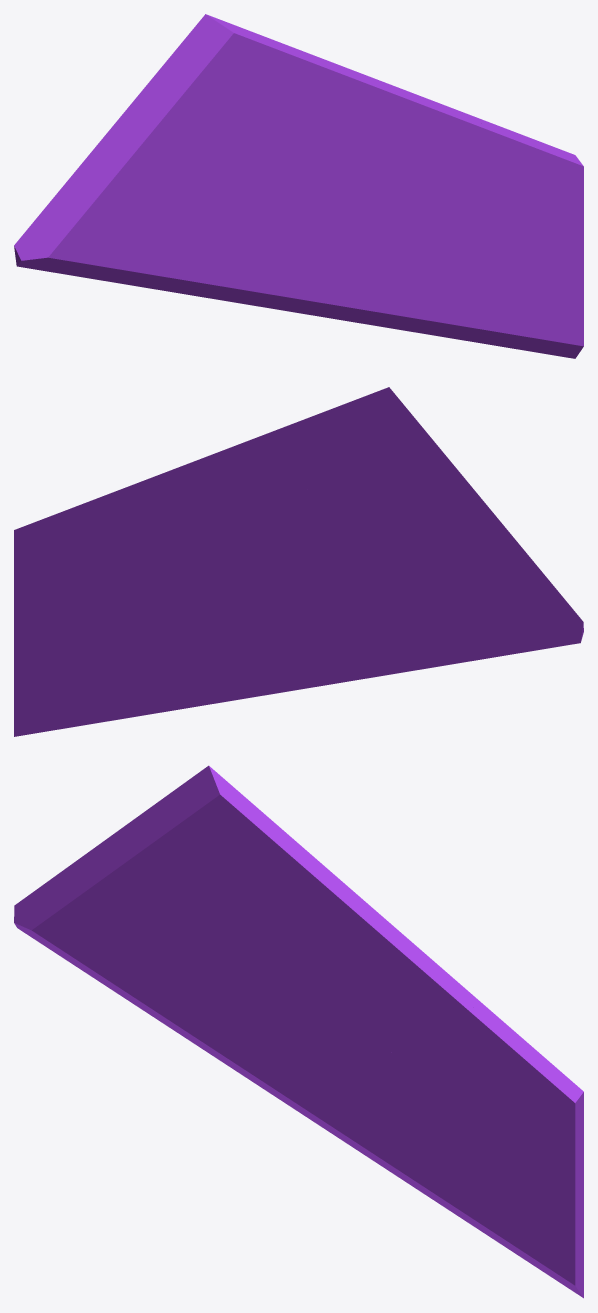
The model's file is Glass_85_17_chunks.fbx.
3 views of the same model, one above another, from view 1: azimuth 30°, elevation 25°; view 2: azimuth 150°, elevation 25°; view 3: azimuth 330°, elevation 25° (orthographic).
Visible parts, largest first — view 1: Glass_85_17_6, Glass_85_17_9, Glass_85_17_5, Glass_85_17_8, Glass_85_17_12, Glass_85_17_3, Glass_85_17_0, Glass_85_17_11, Glass_85_17_2, Glass_85_17_4, Glass_85_17_1, Glass_85_17_10 (+1 smaller); view 2: Glass_85_17_6, Glass_85_17_9, Glass_85_17_0, Glass_85_17_5, Glass_85_17_3, Glass_85_17_12, Glass_85_17_8, Glass_85_17_2, Glass_85_17_10, Glass_85_17_4, Glass_85_17_1, Glass_85_17_11; view 3: Glass_85_17_6, Glass_85_17_9, Glass_85_17_8, Glass_85_17_12, Glass_85_17_5, Glass_85_17_0, Glass_85_17_3, Glass_85_17_11, Glass_85_17_2, Glass_85_17_4, Glass_85_17_10, Glass_85_17_1 (+1 smaller).
Boxes of the visible parts, x1,y1,x2,y2 form: Glass_85_17_6: (373,175,583,358); Glass_85_17_9: (54,35,243,215); Glass_85_17_5: (285,162,413,325); Glass_85_17_8: (371,121,583,227); Glass_85_17_12: (188,14,365,144); Glass_85_17_3: (175,215,296,312); Glass_85_17_0: (315,67,495,186); Glass_85_17_11: (192,143,304,218); Glass_85_17_2: (14,197,133,281); Glass_85_17_4: (56,198,195,248); Glass_85_17_1: (103,244,193,293); Glass_85_17_10: (270,115,350,197); Glass_85_17_6: (14,540,219,736); Glass_85_17_9: (354,408,541,577); Glass_85_17_0: (94,440,318,593); Glass_85_17_5: (174,551,306,702); Glass_85_17_3: (297,576,433,689); Glass_85_17_12: (250,387,405,505); Glass_85_17_8: (14,500,207,596); Glass_85_17_2: (432,572,583,658); Glass_85_17_10: (266,474,363,579); Glass_85_17_4: (410,572,536,606); Glass_85_17_1: (412,627,487,670); Glass_85_17_11: (336,538,392,578); Glass_85_17_6: (377,1091,583,1298); Glass_85_17_9: (55,778,230,957); Glass_85_17_8: (359,993,583,1111); Glass_85_17_12: (190,765,353,935); Glass_85_17_5: (272,991,402,1163); Glass_85_17_0: (302,887,503,1021); Glass_85_17_3: (160,961,299,1112); Glass_85_17_11: (177,911,291,1007); Glass_85_17_2: (14,876,118,987); Glass_85_17_4: (56,878,181,979); Glass_85_17_10: (256,925,337,996); Glass_85_17_1: (87,963,185,1037).
Bounding box in the file's own units: 1022 × 757 × 27.2.
